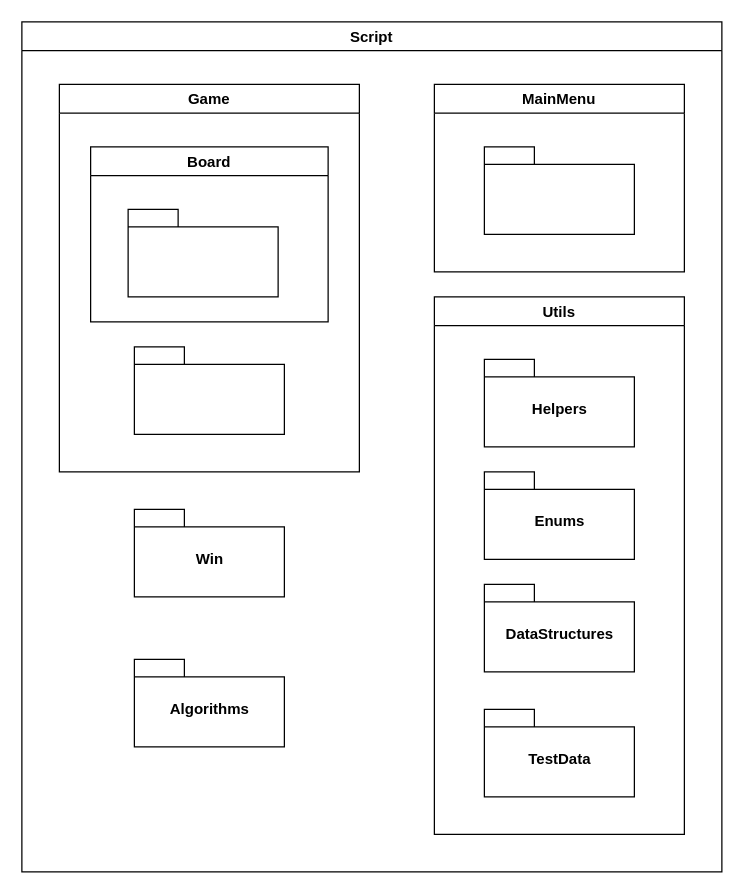
Image size: 744x894. Some labels were removed from this diagram. The shapes that lost their labels are listed below. From the top down, each one's centre as x and y in pixels, then its label:
point 558,190: Buttons
point 202,252: Tile
point 208,390: GameHelper
